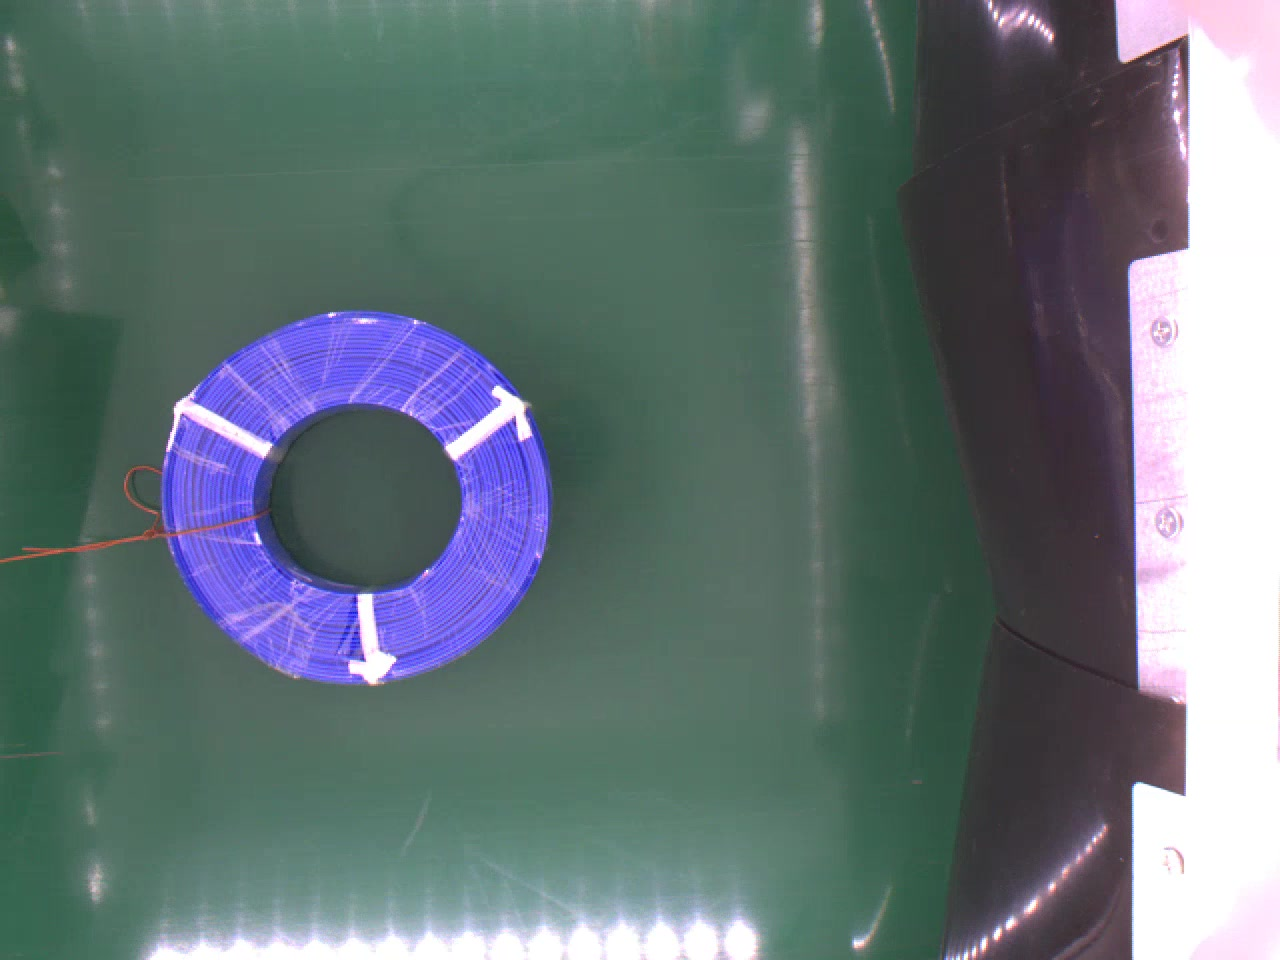blue: (157, 309, 552, 686)
